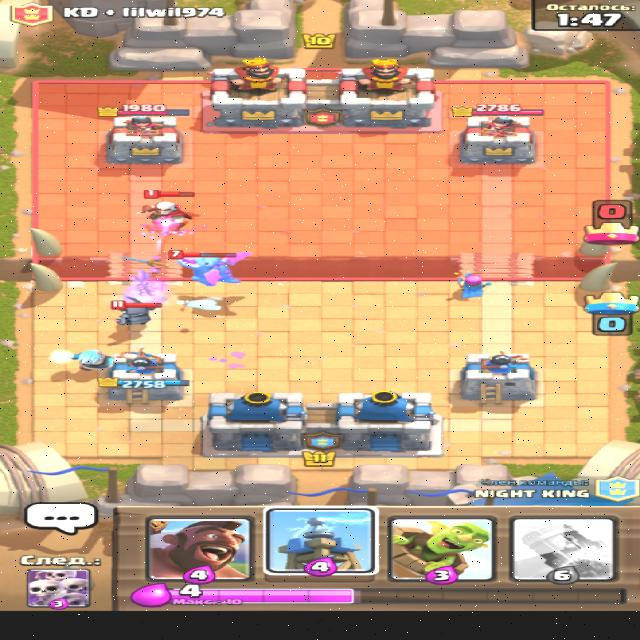Enemy-BabyDragon: (164, 248, 253, 287)
Enemy-MagicArcher: (130, 188, 203, 236)
Enemy-MiniPEKKA: (108, 295, 162, 326)
Player-Archer: (452, 270, 492, 298)
Player-IceWizard: (47, 346, 114, 372)
